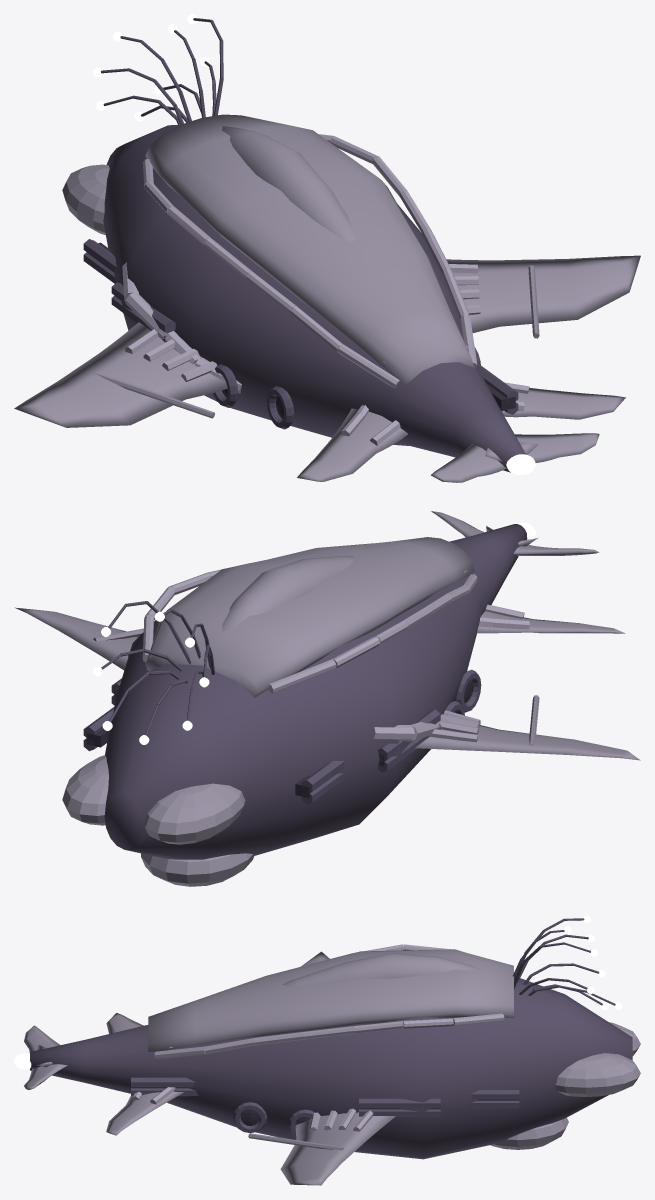
The picture shows the model from 3 angles, top to bottom: view 1: azimuth 30°, elevation 25°; view 2: azimuth 150°, elevation 25°; view 3: azimuth 270°, elevation 25°; orthographic projection. The views are drawn at different scales.
Parts seen in each view (by area): view 1: RIMWARD_HULL; view 2: RIMWARD_HULL, RIMWARD_EMISSIVE; view 3: RIMWARD_HULL, RIMWARD_EMISSIVE.
Part boxes in pixels (<box>): RIMWARD_HULL: <box>14,18,640,482</box>; RIMWARD_HULL: <box>15,511,640,886</box>; RIMWARD_EMISSIVE: <box>92,611,209,744</box>; RIMWARD_HULL: <box>24,918,640,1185</box>; RIMWARD_EMISSIVE: <box>564,915,622,1009</box>.
Bounding box in the file's own units: 7.04 × 3.13 × 7.97.
